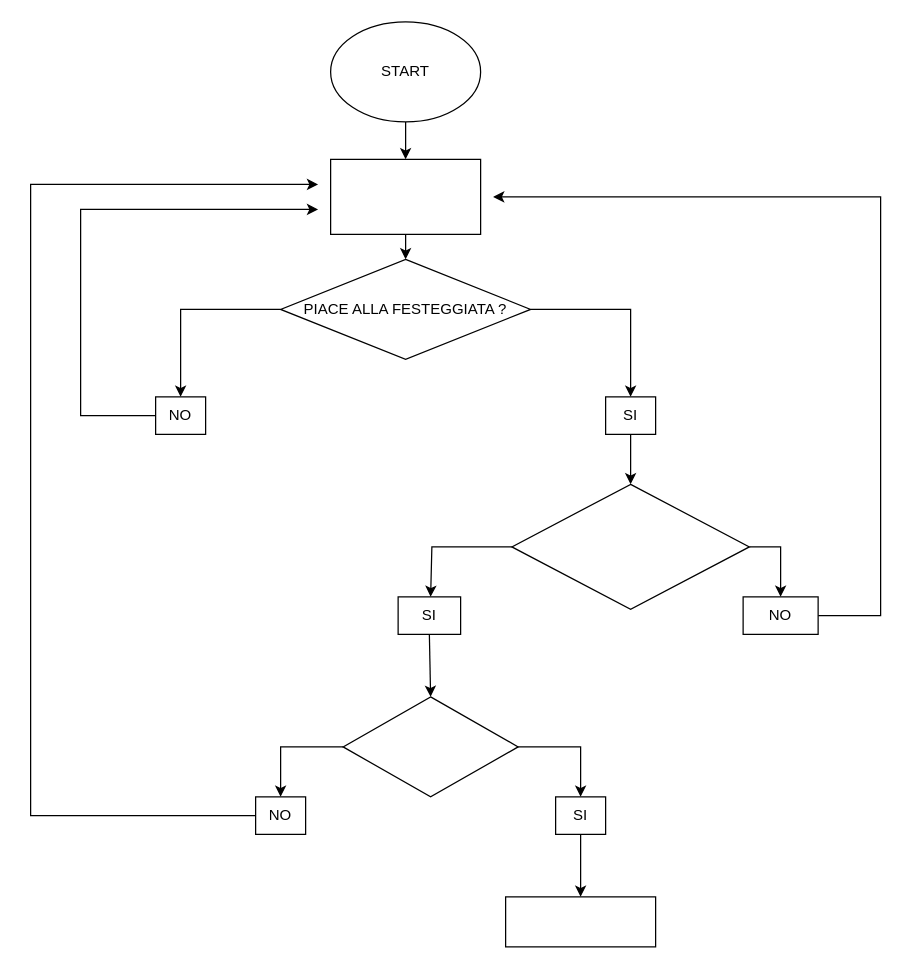
Image size: 913x969. Some labels were removed from this diagram. The centre of each missing label's shape, as x and y in pixels:
"ARRIVA ENTRO DOMANI ?" goes at [430,746].
"COMPRA !" goes at [580,921].
"IL PREZZO RENTRA NEL BUDGET ?" goes at [630,546].
"SCEGLIAMO UN OGGETTO" goes at [405,196].
